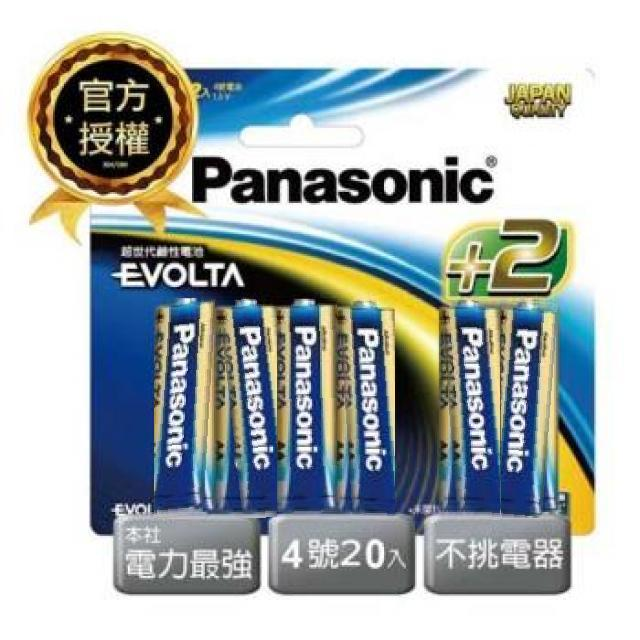battery: (154, 298, 217, 520), (440, 298, 500, 520), (218, 296, 277, 518), (278, 298, 338, 514), (338, 296, 395, 516), (501, 298, 558, 518)
